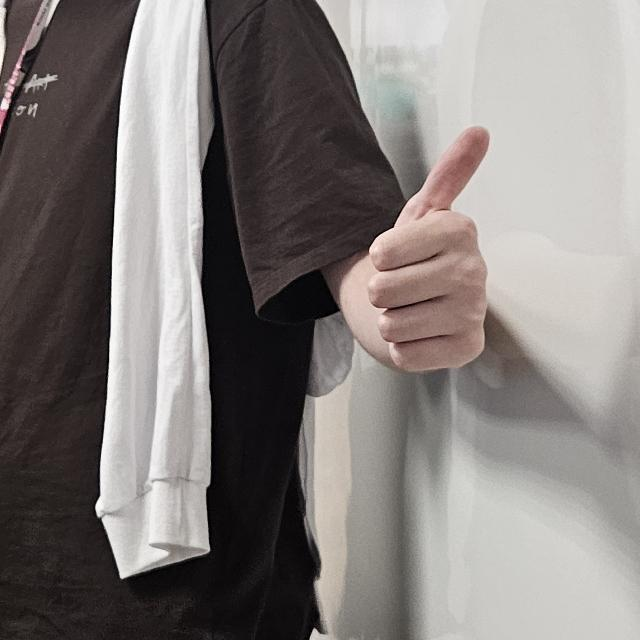Start: (370, 120, 500, 378)
